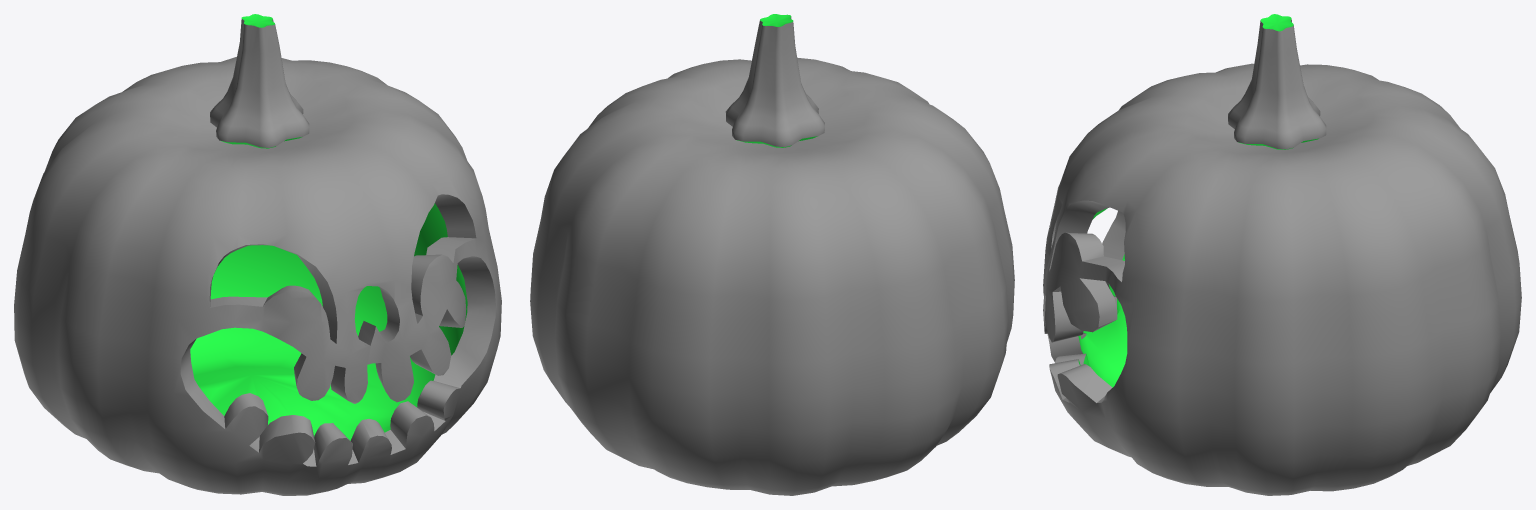
The model's file is Pumpkin.fbx.
3 renders of one model, left to right at view 1: azimuth 30°, elevation 25°; view 2: azimuth 150°, elevation 25°; view 3: azimuth 270°, elevation 25°, orthographic.
Parts seen in each view (by area): view 1: SM_Graveyard_Pumpkin_LOD0; view 2: SM_Graveyard_Pumpkin_LOD0; view 3: SM_Graveyard_Pumpkin_LOD0.
Boxes of the visible parts, x1,y1,x2,y2 form: SM_Graveyard_Pumpkin_LOD0: (14, 14, 501, 495); SM_Graveyard_Pumpkin_LOD0: (530, 14, 1014, 495); SM_Graveyard_Pumpkin_LOD0: (1043, 14, 1521, 495).
Size of what is drawn, in the model's own units: 48.72 by 46.24 by 48.59.
